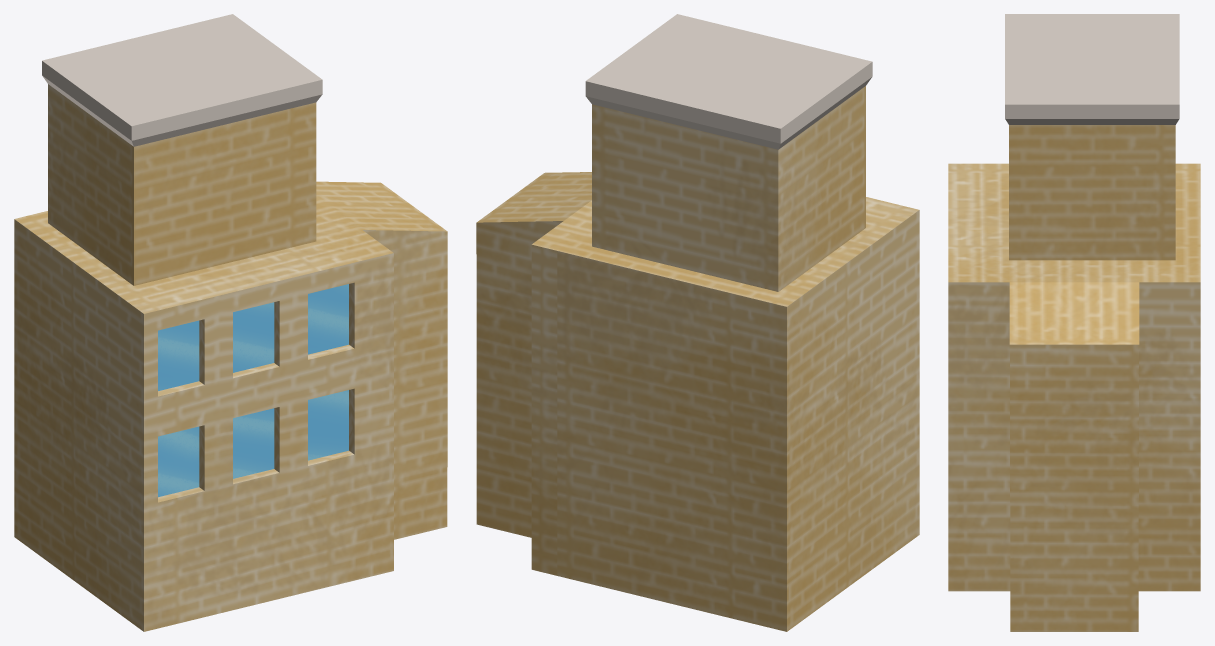
The model's file is SM_cassa_5.fbx.
3 views of the same model, side by side, from view 1: azimuth 30°, elevation 25°; view 2: azimuth 150°, elevation 25°; view 3: azimuth 270°, elevation 25° (orthographic). The views are drawn at different scales.
Visible parts, largest first — view 1: Casa_0.001; view 2: Casa_0.001; view 3: Casa_0.001.
Boxes of the visible parts, bbox=[...] form: Casa_0.001: bbox=[14, 14, 447, 631]; Casa_0.001: bbox=[476, 14, 919, 631]; Casa_0.001: bbox=[948, 14, 1200, 631].
Size of the model in its own units: 928 by 1270 by 622.
